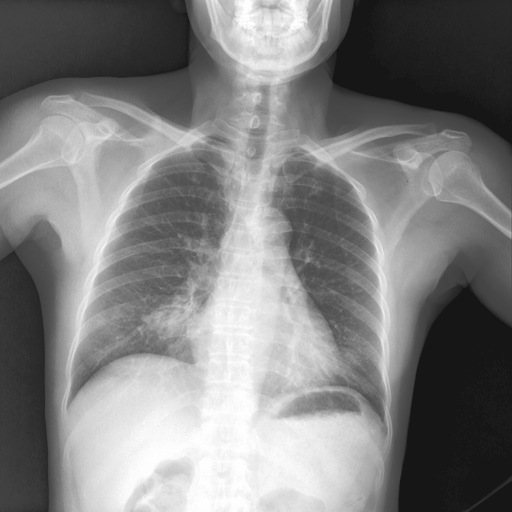Aortic enlargement: (139, 278, 206, 352)
Pleural thickening: (331, 296, 379, 389)
Pulmonary fibrosis: (141, 285, 209, 343), (106, 288, 113, 294)
